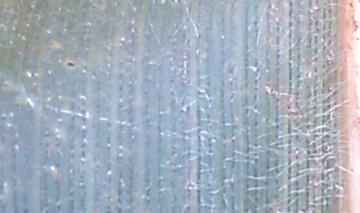tarspot: (65, 57, 77, 69)
